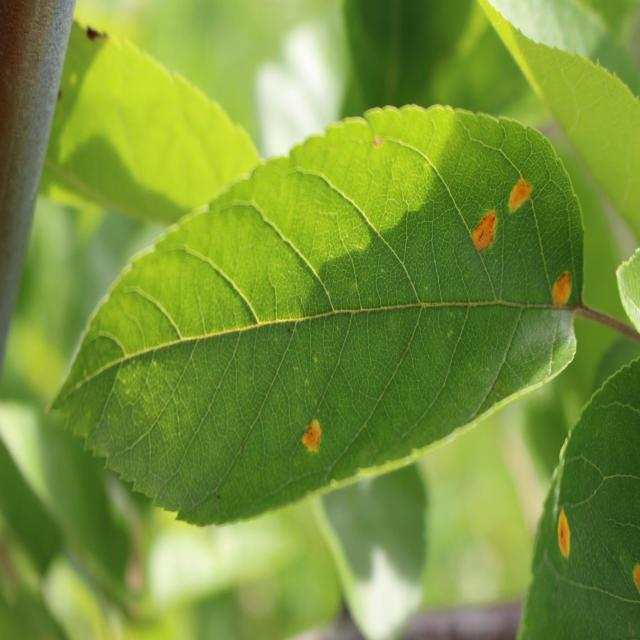Rust: (461, 200, 512, 265), (492, 168, 561, 216), (543, 500, 585, 575), (291, 399, 337, 467), (547, 263, 577, 330)
